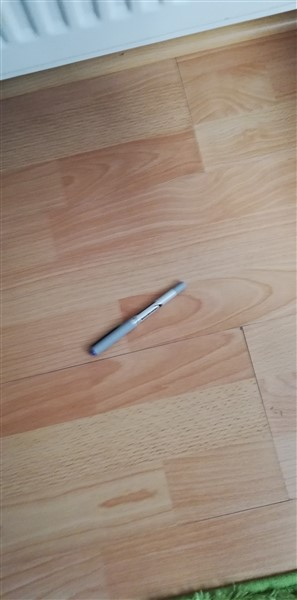pilot kalem: (85, 278, 188, 359)
